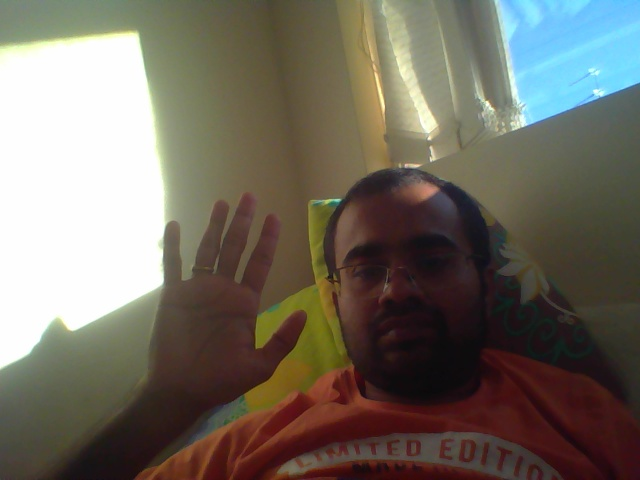LiveLong: (140, 186, 310, 413)
